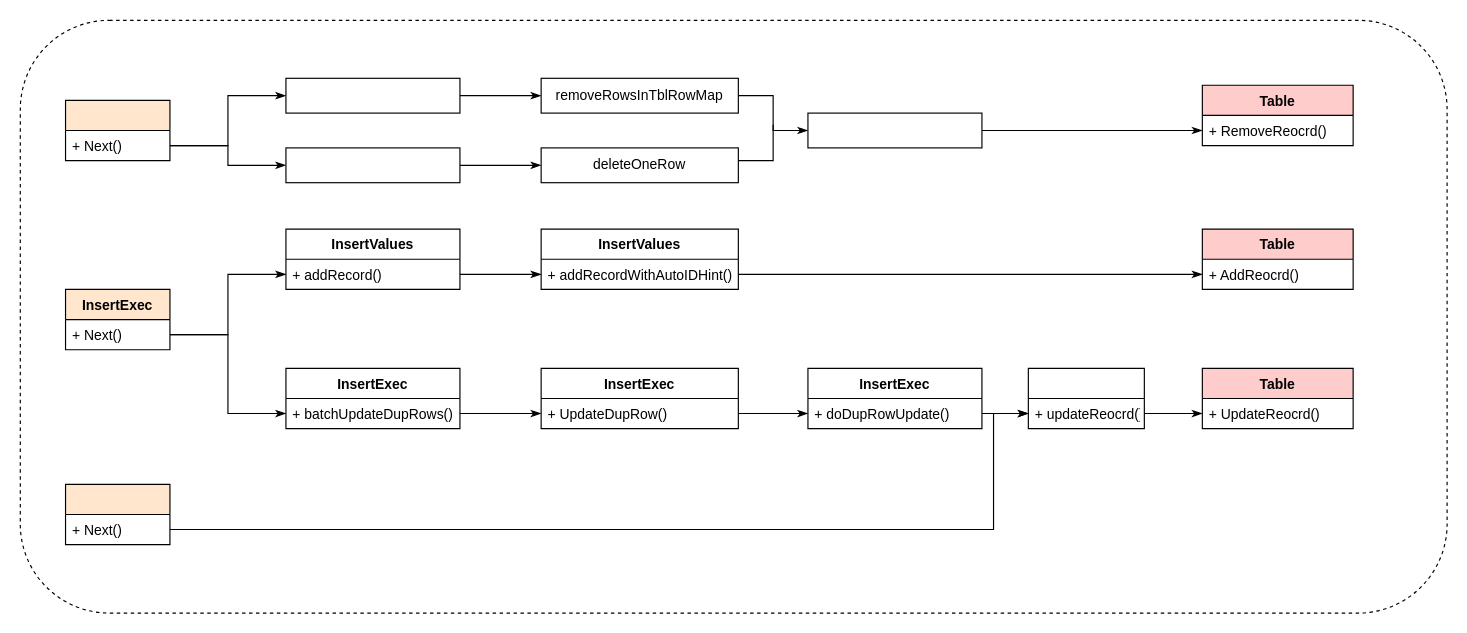
Some shapes in this 1467 by 633 pixel diagram are drawn without their labels. The box of each missing label's shape, as (x1, y1, x2, y2) in pixels:
DeleteExec: (64, 99, 170, 161)
deleteMultiTablesByChunk: (285, 77, 460, 113)
deleteSingleTablesByChunk: (285, 147, 460, 183)
removeRow: (807, 112, 982, 148)
UpdateExec: (64, 483, 170, 545)
write: (1027, 367, 1144, 429)
